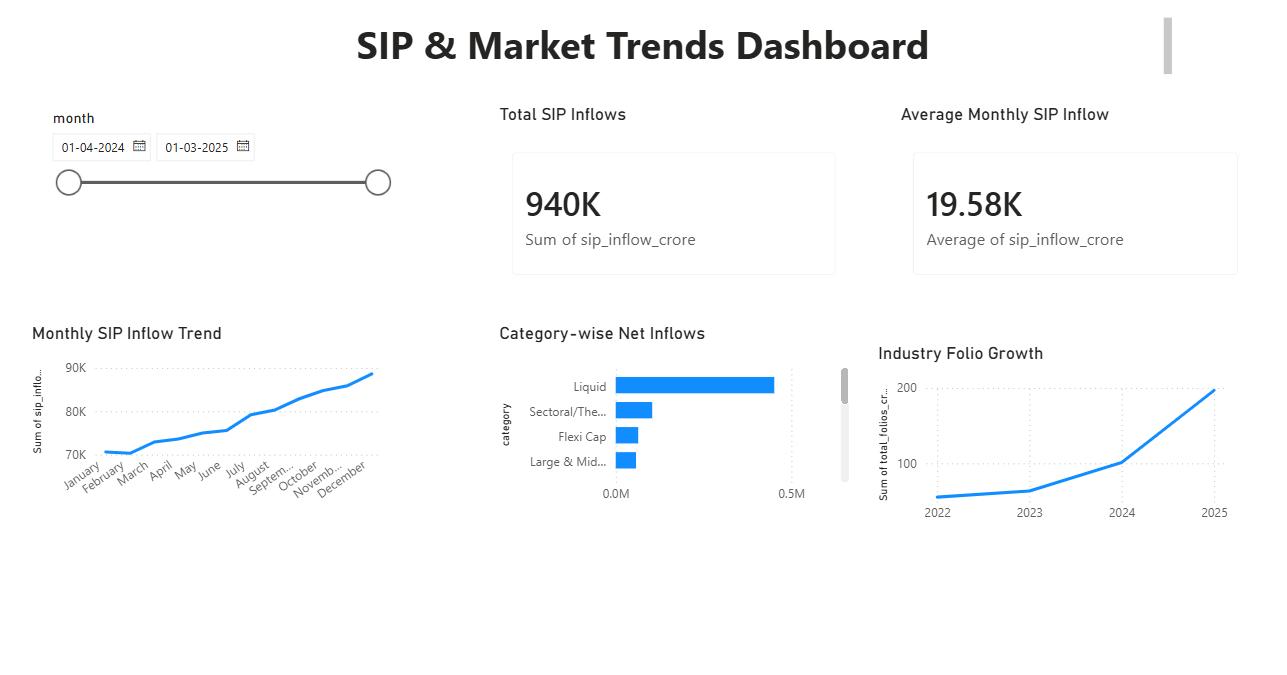

This screenshot's page, from the dashboard's own definition file:
{"tool":"powerbi","page":{"name":"SIP & Market Trends","canvas":[1280,720],"ordinal":3},"visuals":[{"type":"textbox","box":[121.7,57.1,1036.9,70.6],"z":0},{"type":"cardVisual","title":"Total SIP Inflows","fields":{"Data":["Sum(04_monthly_sip_inflows.sip_inflow_crore)"]},"box":[491.4,147.3,351.6,184.8],"z":1000},{"type":"cardVisual","title":"Average Monthly SIP Inflow","fields":{"Data":["Avg(04_monthly_sip_inflows.sip_inflow_crore)"]},"box":[883.6,147.3,352,185],"z":2000},{"type":"lineChart","title":"Monthly SIP Inflow Trend","fields":{"Category":["04_monthly_sip_inflows.month.Variation.Date Hierarchy.Year","04_monthly_sip_inflows.month.Variation.Date Hierarchy.Quarter","04_monthly_sip_inflows.month.Variation.Date Hierarchy.Month","04_monthly_sip_inflows.month.Variation.Date Hierarchy.Day"],"Y":["Sum(04_monthly_sip_inflows.sip_inflow_crore)"]},"box":[34.6,360.6,352,185],"z":3000},{"type":"clusteredBarChart","title":"Category-wise Net Inflows","fields":{"Category":["05_category_inflows.category"],"Y":["Sum(05_category_inflows.net_inflow_crore)"]},"box":[491.4,360.6,352,185],"z":4000},{"type":"lineChart","title":"Industry Folio Growth","fields":{"Category":["06_industry_folio_count.month.Variation.Date Hierarchy.Year","06_industry_folio_count.month.Variation.Date Hierarchy.Quarter","06_industry_folio_count.month.Variation.Date Hierarchy.Month","06_industry_folio_count.month.Variation.Date Hierarchy.Day"],"Y":["Sum(06_industry_folio_count.total_folios_crore)"]},"box":[862.6,380.2,351.6,184.8],"z":5000},{"type":"slicer","fields":{"Values":["05_category_inflows.month"]},"box":[46.6,147.3,352,150],"z":6000}]}

Visuals, with their boxes on the page's 1280x720 design canvas (x1, y1, x2, y2). These are canvas units, not pixel positions in the 1287x675 screenshot, which may show the page scaled, cropped or inside an application window:
textbox: 122 57 1159 128
"Total SIP Inflows" cardVisual: 491 147 843 332
"Average Monthly SIP Inflow" cardVisual: 884 147 1236 332
"Monthly SIP Inflow Trend" lineChart: 35 361 387 546
"Category-wise Net Inflows" clusteredBarChart: 491 361 843 546
"Industry Folio Growth" lineChart: 863 380 1214 565
slicer - 05_category_inflows.month: 47 147 399 297
